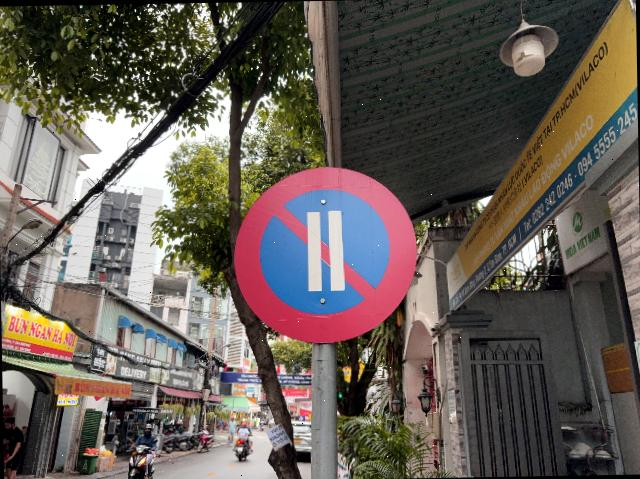cam-do-xe-ngay-chan: (233, 164, 418, 344)
